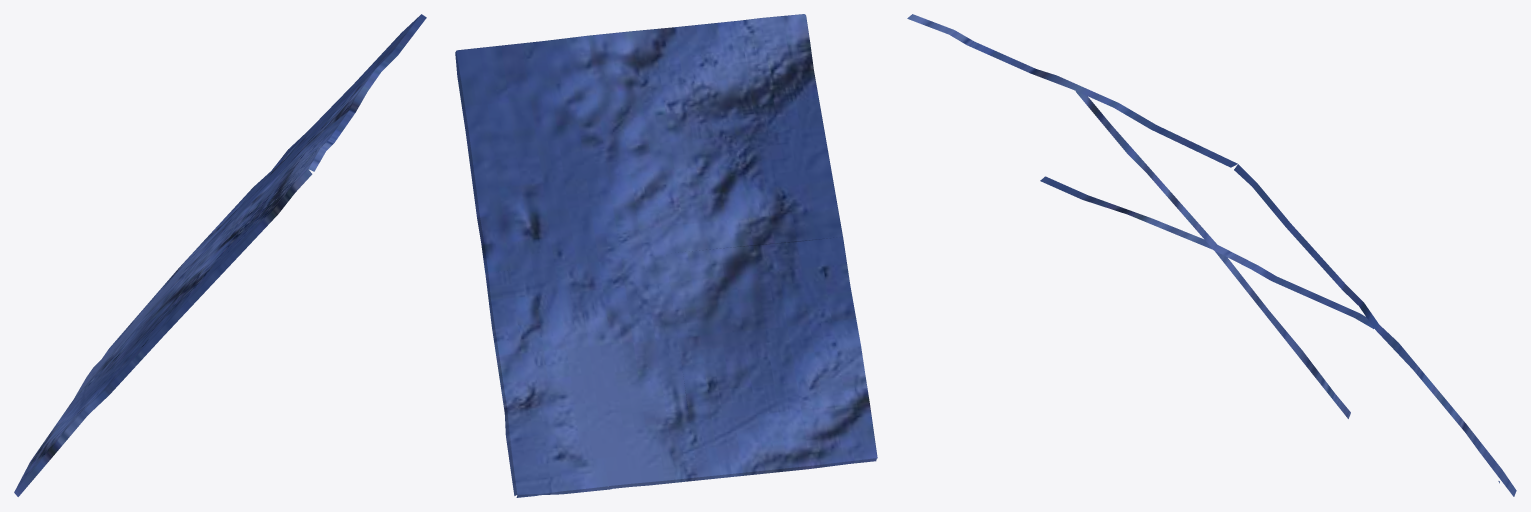
The picture shows the model from 3 angles, left to right: view 1: azimuth 30°, elevation 25°; view 2: azimuth 150°, elevation 25°; view 3: azimuth 270°, elevation 25°; orthographic projection. The views are drawn at different scales.
Bounding box in the file's own units: 315030 × 251320 × 312638.
1 material, 1 textured.
